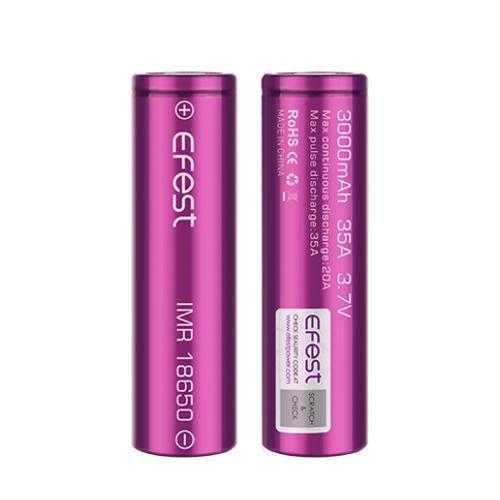Battery: (256, 67, 372, 460), (125, 66, 241, 459)
